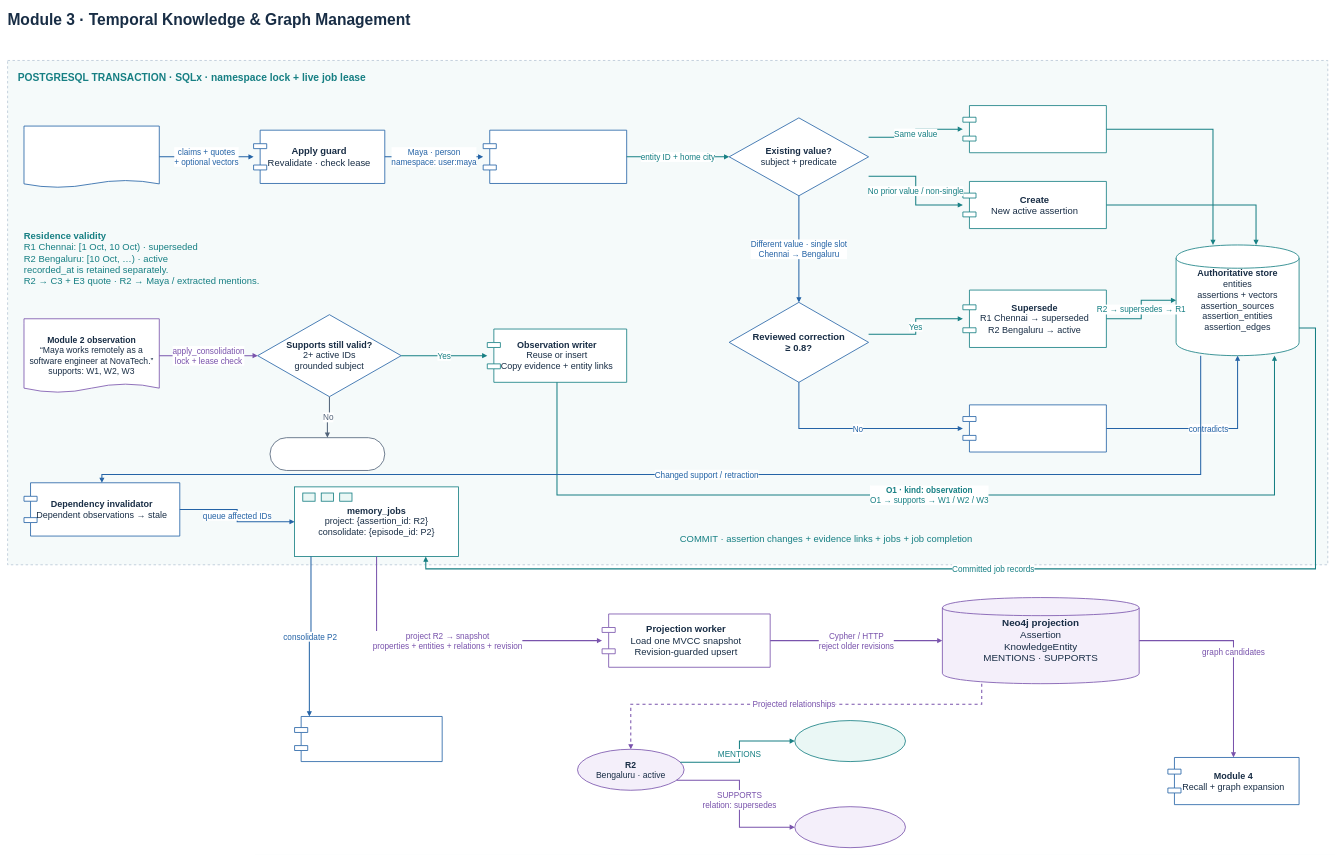
The diagram is 1335 pixels wide and 855 high, and some of its shapes have lost their labels. The centre of each missing label's shape, as x and y in pixels:
"Contest Old + new → contested" belongs at [1034,428].
"Entity resolver Exact key → unique alias → new" belongs at [555,157].
"Maya KnowledgeEntity" belongs at [850,741].
"Module 2 claims Maya / home city / Bengaluru correction:true · confidence:0.95" belongs at [91,156].
"Module 2 Consolidation" belongs at [368,739].
"R1 Chennai · superseded" belongs at [850,827].
"Reinforce Reuse assertion ID" belongs at [1034,129].
"Rollback / retry" belongs at [327,454].
